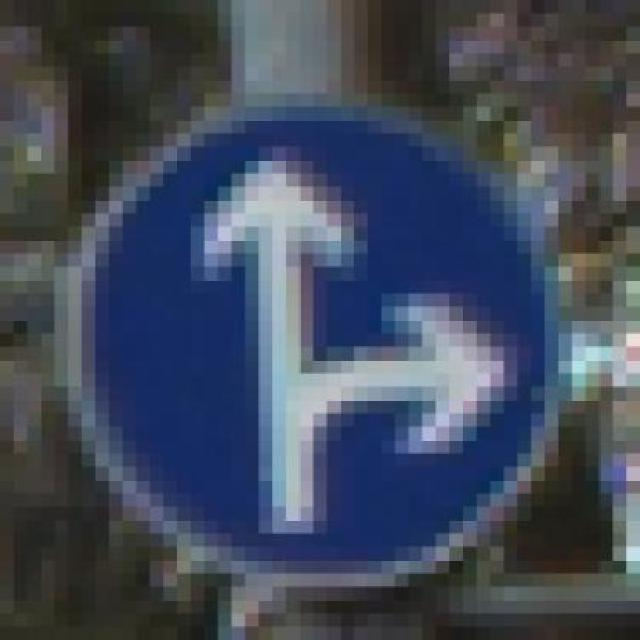Go Straight or Turn Right: (41, 93, 613, 587)
